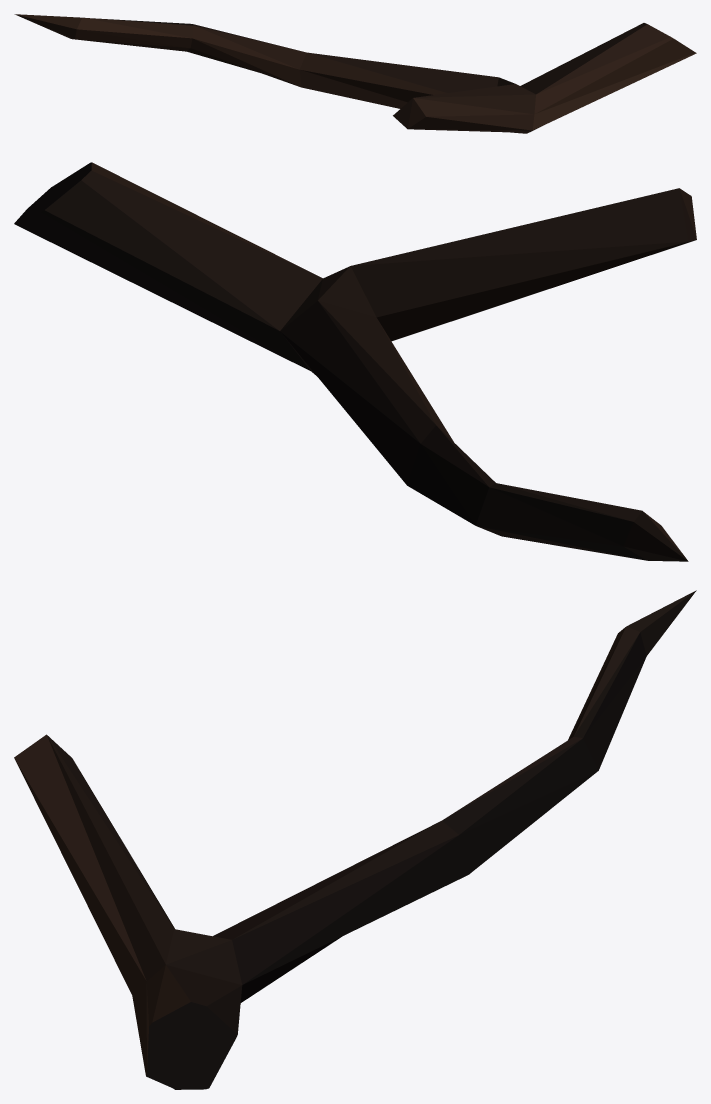
The model's file is branch.obj.
3 views of the same model, one above another, from view 1: azimuth 30°, elevation 25°; view 2: azimuth 150°, elevation 25°; view 3: azimuth 270°, elevation 25° (orthographic). The views are drawn at different scales.
Parts seen in each view (by area): view 1: Object_Dead_tree_2022-04-28_15-25-27.obj.001; view 2: Object_Dead_tree_2022-04-28_15-25-27.obj.001; view 3: Object_Dead_tree_2022-04-28_15-25-27.obj.001.
Boxes of the visible parts, x1,y1,x2,y2 form: Object_Dead_tree_2022-04-28_15-25-27.obj.001: (14, 14, 696, 133); Object_Dead_tree_2022-04-28_15-25-27.obj.001: (14, 162, 696, 561); Object_Dead_tree_2022-04-28_15-25-27.obj.001: (14, 590, 696, 1089).
Bounding box in the file's own units: 140 × 26.15 × 96.13.
